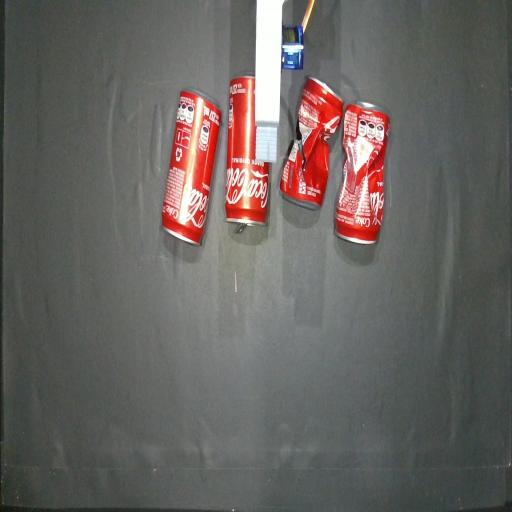lata: (162, 88, 222, 245), (225, 74, 269, 232)
lata_defectuoso: (280, 77, 343, 209), (334, 101, 389, 243)
